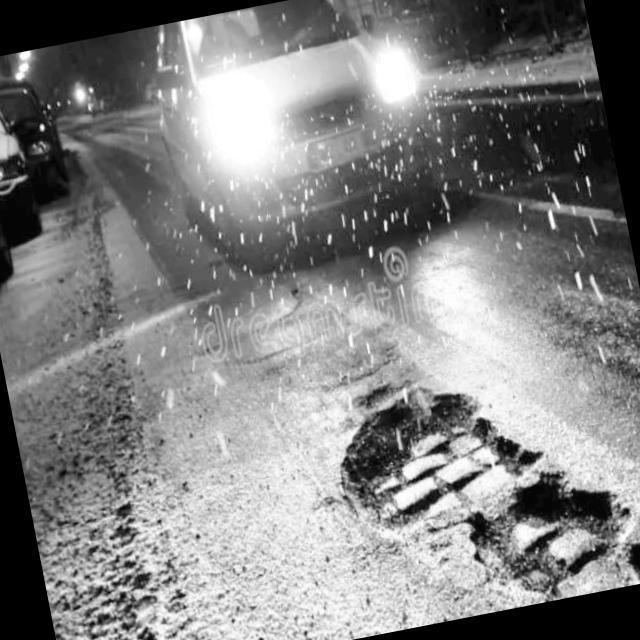Pothole: (326, 341, 640, 632)
